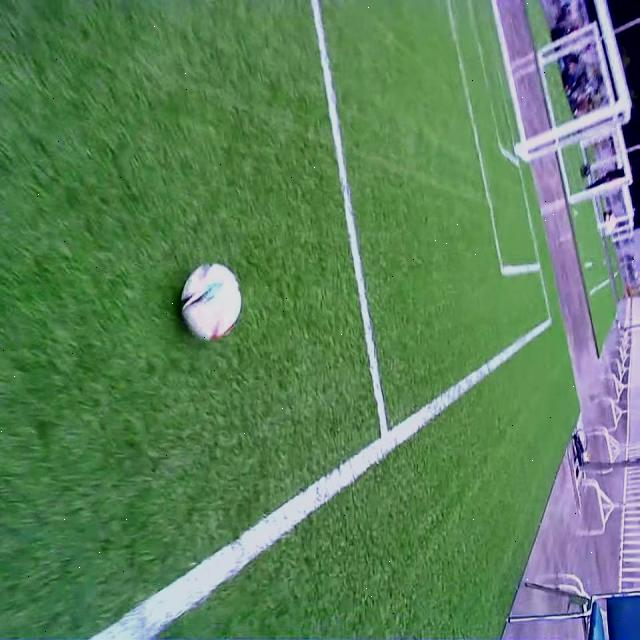ball: (182, 260, 241, 343)
